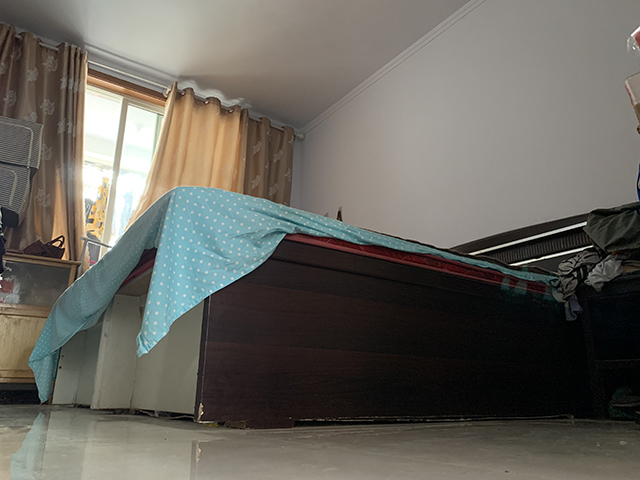bed: (27, 185, 640, 432)
cabinet: (1, 252, 81, 404)
